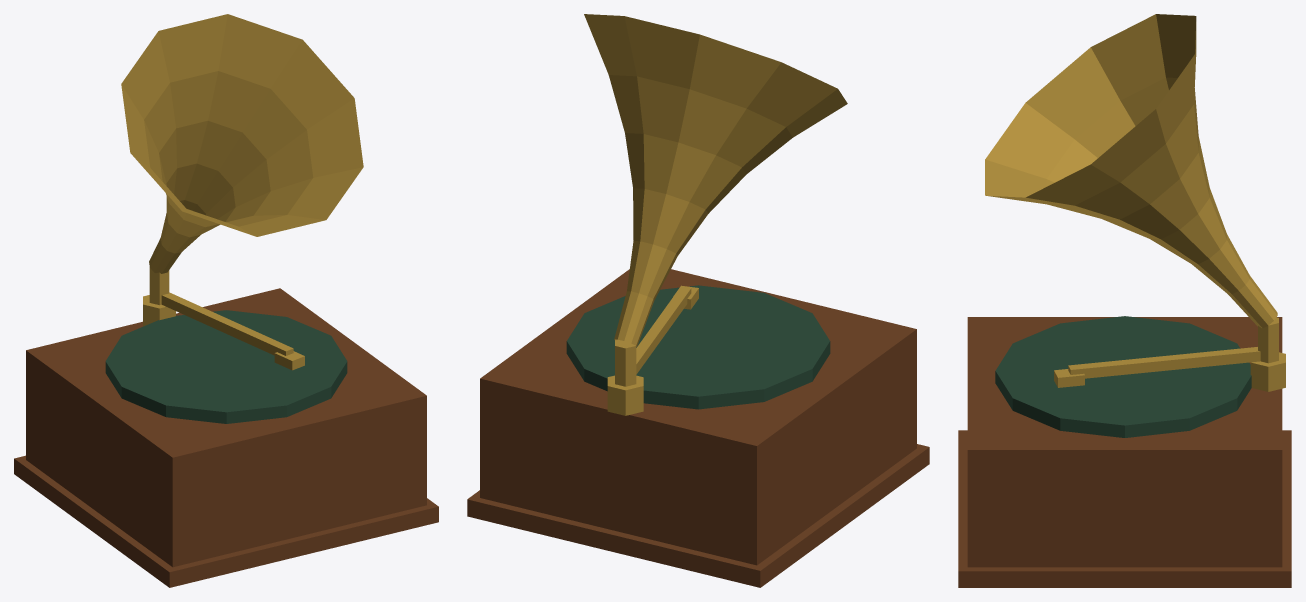
The model's file is Prop_YTM_RecordPlayer_LOD1.glb.
The picture shows the model from 3 angles, left to right: view 1: azimuth 30°, elevation 25°; view 2: azimuth 150°, elevation 25°; view 3: azimuth 270°, elevation 25°; orthographic projection. The views are drawn at different scales.
Visible parts, largest first — view 1: Prop_YTM_RecordPlayer; view 2: Prop_YTM_RecordPlayer; view 3: Prop_YTM_RecordPlayer.
Part boxes in pixels (x1,y1,x2,y2): Prop_YTM_RecordPlayer: (14,14,438,587); Prop_YTM_RecordPlayer: (467,14,929,587); Prop_YTM_RecordPlayer: (958,14,1291,587).
Size of the model in its own units: 0.36 by 0.5766 by 0.36.
